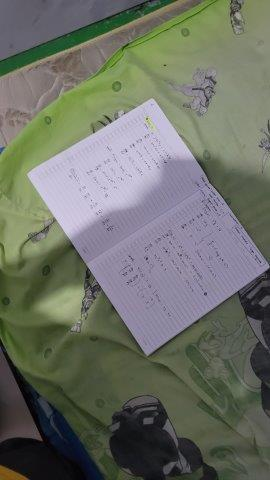kertas: (25, 97, 270, 354)
